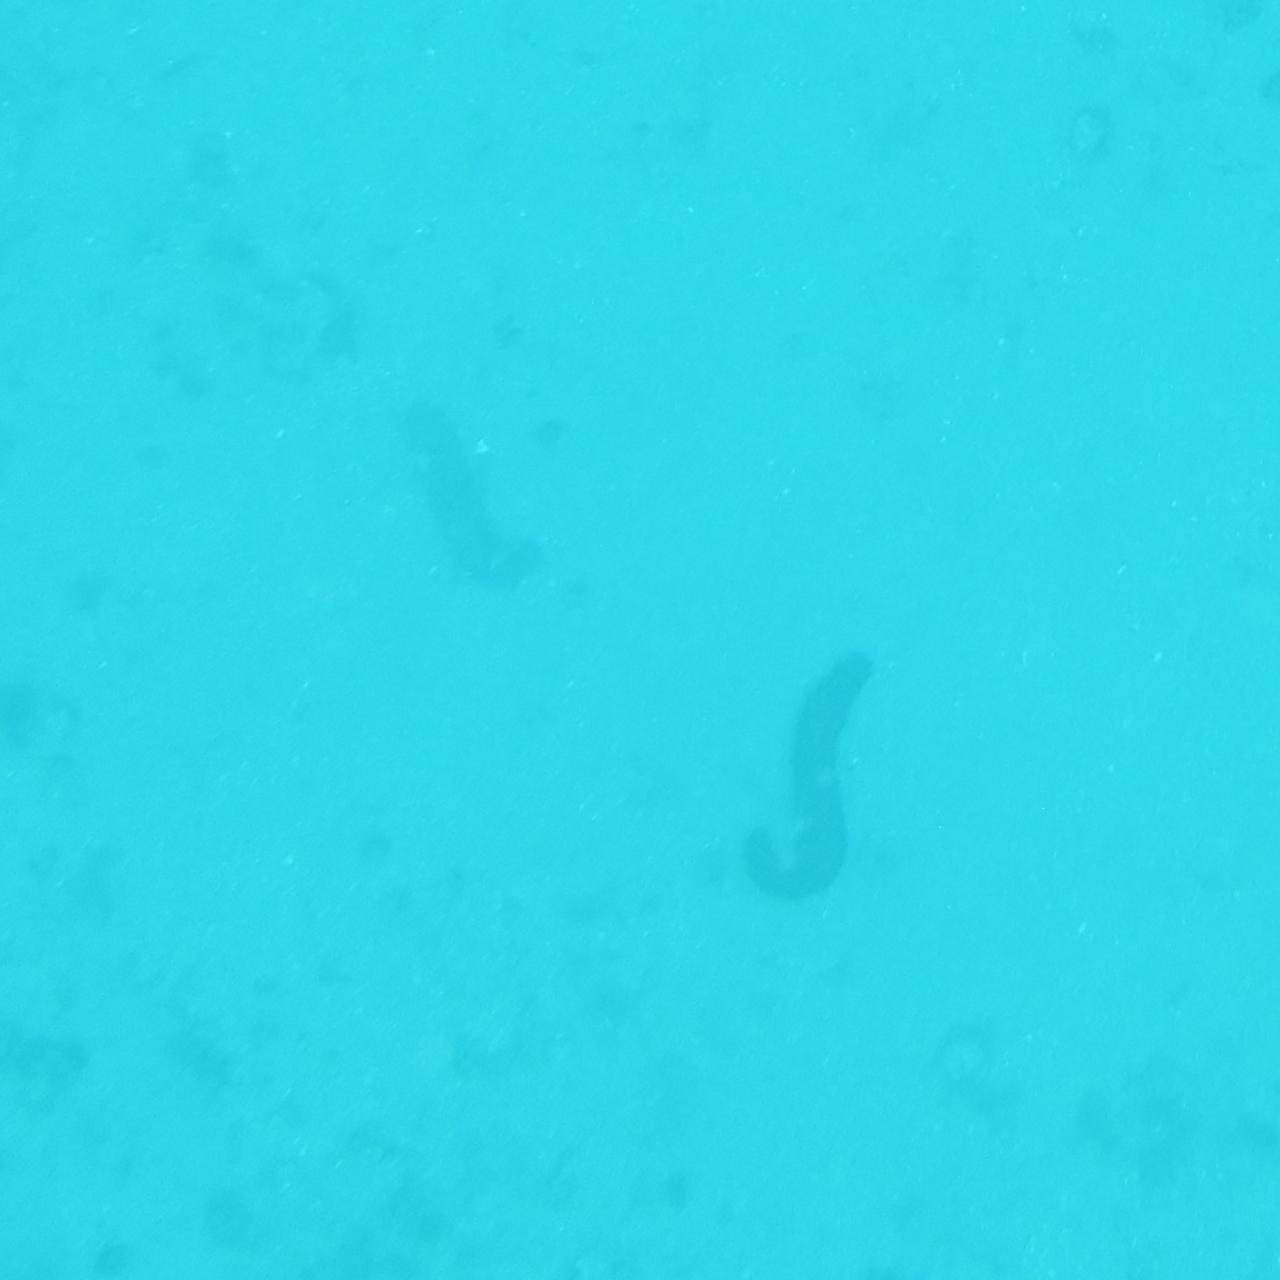Holothuria tubulosa: (723, 658, 893, 928), (396, 384, 547, 592)
